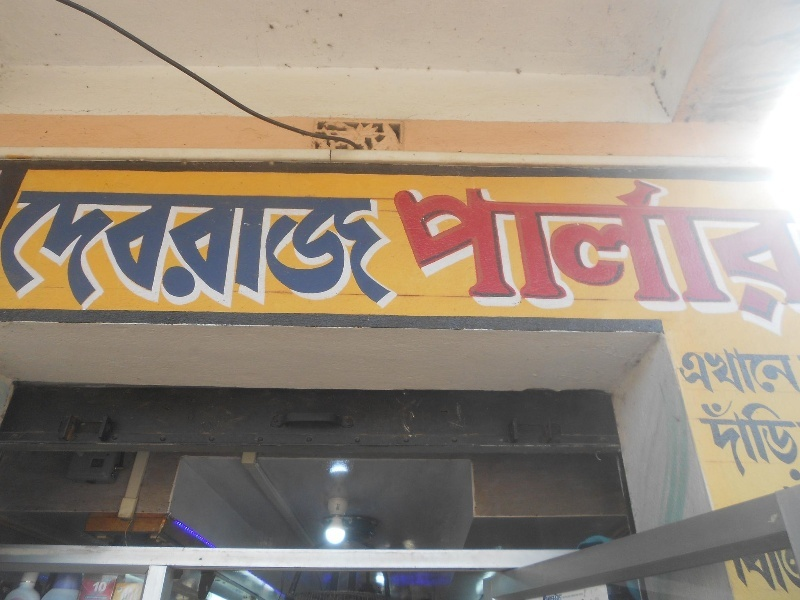text: (401, 177, 416, 319), (417, 177, 432, 319), (433, 177, 448, 319), (449, 177, 464, 319), (465, 177, 480, 319), (481, 177, 496, 319), (497, 177, 512, 319), (513, 177, 528, 319), (529, 177, 544, 319), (545, 177, 560, 319), (561, 177, 576, 319), (577, 177, 592, 319), (593, 177, 608, 319), (609, 177, 624, 319), (625, 177, 640, 319), (641, 177, 656, 319), (657, 177, 672, 319), (673, 177, 688, 319), (689, 177, 704, 319), (705, 177, 720, 319), (721, 177, 736, 319), (737, 177, 752, 319), (753, 177, 768, 319), (769, 177, 784, 319), (785, 177, 800, 319), (1, 185, 16, 311), (17, 185, 32, 311), (33, 185, 48, 311), (49, 185, 64, 311), (65, 185, 80, 311), (81, 185, 96, 311), (97, 185, 112, 311), (113, 185, 128, 311), (129, 185, 144, 311), (145, 185, 160, 311), (161, 185, 176, 311), (177, 185, 192, 311), (193, 185, 208, 311), (209, 185, 224, 311), (225, 185, 240, 311), (241, 185, 256, 311), (257, 185, 272, 311), (273, 185, 288, 311), (289, 185, 304, 311), (305, 185, 320, 311), (321, 185, 336, 311), (337, 185, 352, 311), (353, 185, 368, 311), (369, 185, 384, 311), (385, 185, 399, 311), (389, 177, 400, 319), (705, 401, 720, 480), (721, 401, 736, 480), (737, 401, 752, 480), (753, 401, 768, 480), (769, 401, 784, 480), (785, 401, 799, 480), (737, 550, 752, 594), (753, 550, 768, 594), (769, 550, 784, 594), (689, 350, 704, 393), (705, 350, 720, 393), (721, 350, 736, 393), (737, 350, 752, 393), (753, 350, 768, 393), (769, 350, 784, 393), (785, 350, 800, 393), (785, 550, 799, 594), (698, 401, 704, 480), (679, 350, 688, 393), (97, 577, 112, 600), (113, 577, 128, 600), (129, 577, 139, 600), (89, 577, 96, 600), (733, 550, 736, 594), (545, 594, 560, 600), (561, 594, 567, 600), (539, 594, 544, 600)
